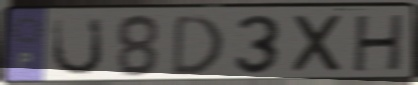3: (231, 13, 285, 77)
8: (114, 13, 163, 80)
D: (169, 13, 226, 79)
H: (350, 12, 407, 75)
U: (49, 15, 105, 78)
X: (291, 12, 348, 76)
